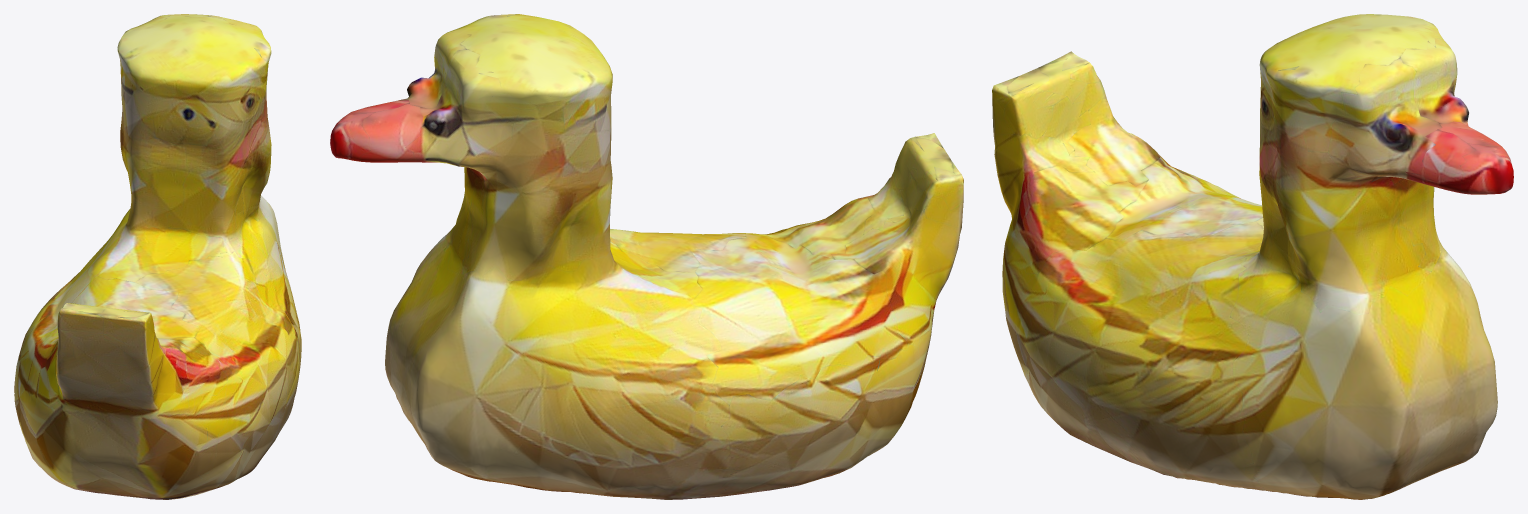
The model's file is meshy_api_rubber_ducky3.glb.
The picture shows the model from 3 angles, left to right: view 1: azimuth 30°, elevation 25°; view 2: azimuth 150°, elevation 25°; view 3: azimuth 270°, elevation 25°; orthographic projection. The views are drawn at different scales.
Bounding box in the file's own units: 0.9965 × 0.9789 × 1.
Materials: 1 (1 with a texture image).
